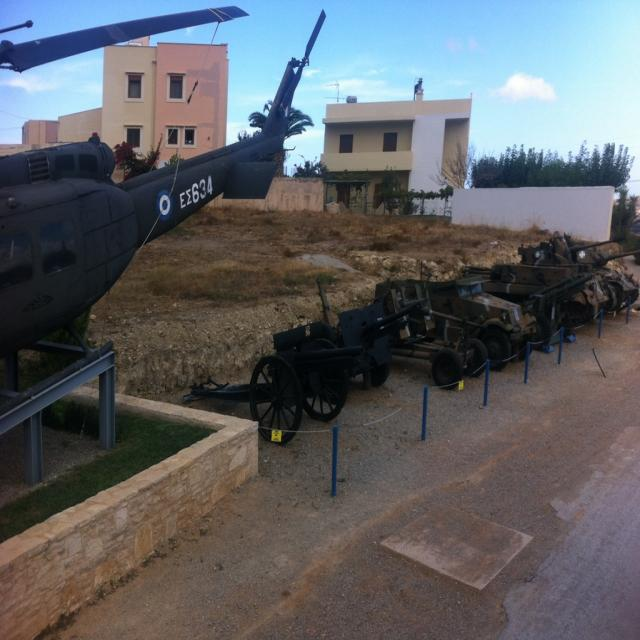tank: (458, 230, 639, 342)
